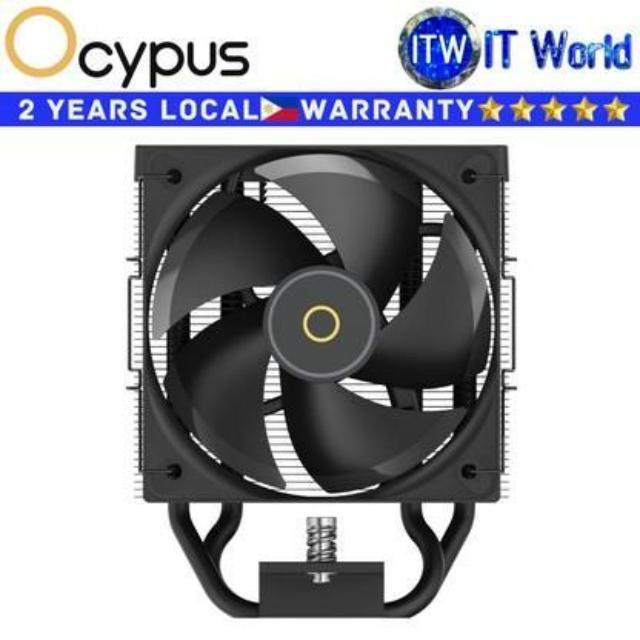CPU_Fan: (133, 140, 518, 618)
